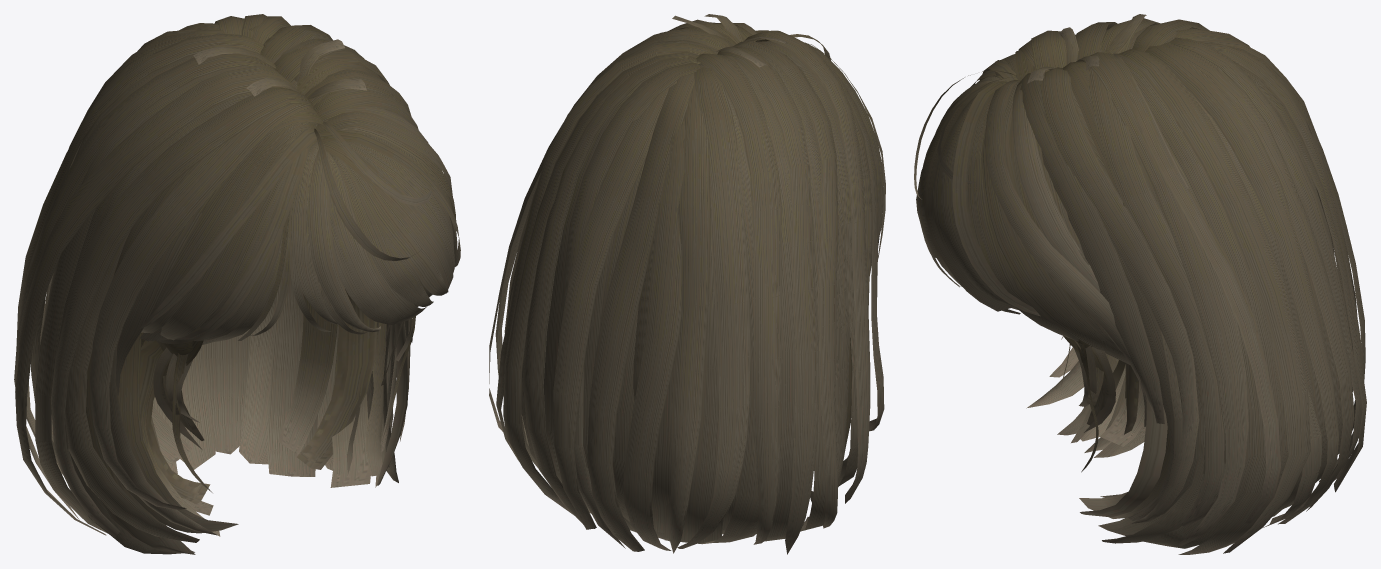
The model's file is G_toufa003.fbx.
The picture shows the model from 3 angles, left to right: view 1: azimuth 30°, elevation 25°; view 2: azimuth 150°, elevation 25°; view 3: azimuth 270°, elevation 25°; orthographic projection. The views are drawn at different scales.
Visible parts, largest first — view 1: Nv02_Hair.001; view 2: Nv02_Hair.001; view 3: Nv02_Hair.001.
Part boxes in pixels (x1=…): Nv02_Hair.001: x1=14, y1=14, x2=460, y2=554; Nv02_Hair.001: x1=489, y1=14, x2=885, y2=554; Nv02_Hair.001: x1=914, y1=14, x2=1366, y2=554.
Size of the model in its own units: 21.01 by 26.68 by 23.05.
